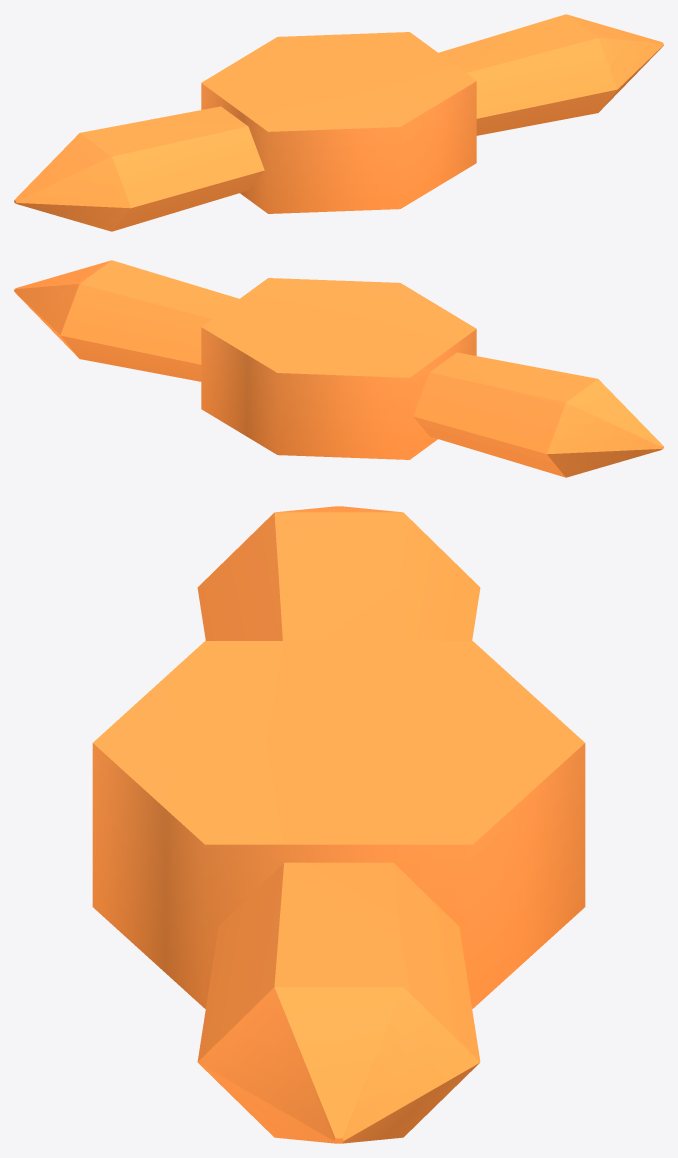
File: bronze_guard_074.glb
3 views of the same model, one above another, from view 1: azimuth 30°, elevation 25°; view 2: azimuth 150°, elevation 25°; view 3: azimuth 270°, elevation 25° (orthographic). The views are drawn at different scales.
Visible parts, largest first — view 1: bronze_guard_074; view 2: bronze_guard_074; view 3: bronze_guard_074.
Part boxes in pixels (bbox=[...]): bronze_guard_074: bbox=[14, 14, 663, 231]; bronze_guard_074: bbox=[14, 260, 663, 477]; bronze_guard_074: bbox=[92, 506, 585, 1143].
Size of the model in its own units: 9.73 by 1.18 by 3.21.
1 material, 1 textured.
